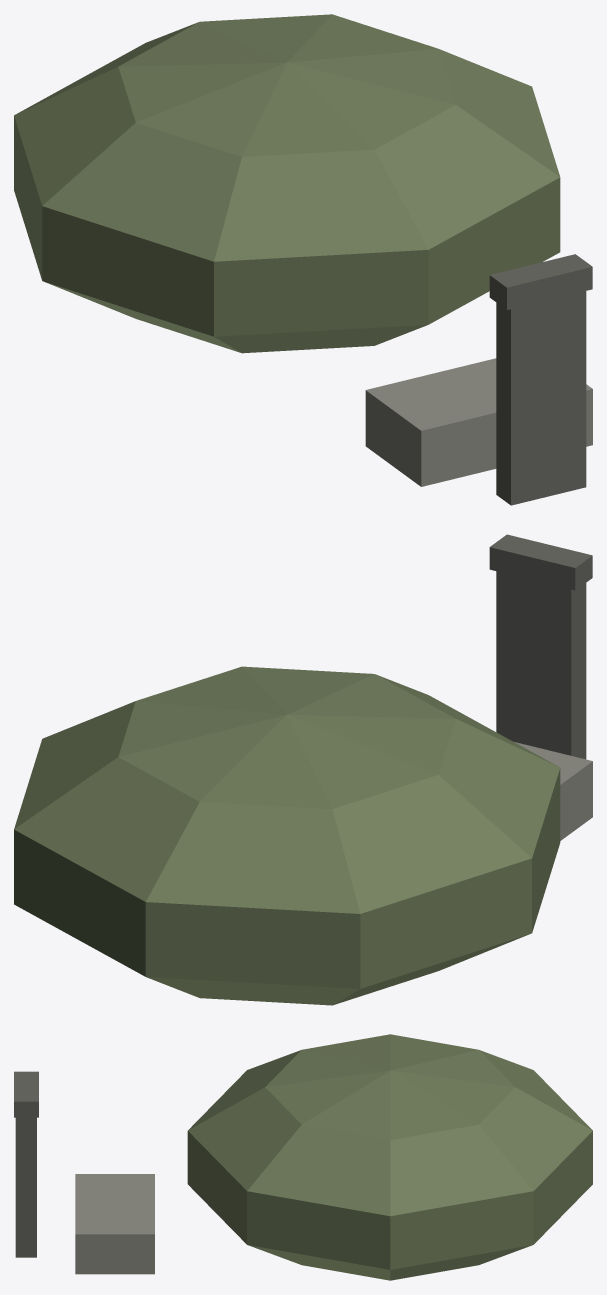
Rendered from prop_grave.glb.
3 views of the same model, one above another, from view 1: azimuth 30°, elevation 25°; view 2: azimuth 150°, elevation 25°; view 3: azimuth 270°, elevation 25° (orthographic). The views are drawn at different scales.
Parts seen in each view (by area): view 1: prop_grave; view 2: prop_grave; view 3: prop_grave.
Part boxes in pixels (x1=…): prop_grave: x1=14, y1=14, x2=592, y2=505; prop_grave: x1=14, y1=534, x2=592, y2=1005; prop_grave: x1=14, y1=1034, x2=592, y2=1280.
Bounding box in the file's own units: 2.28 × 1.08 × 3.26.
